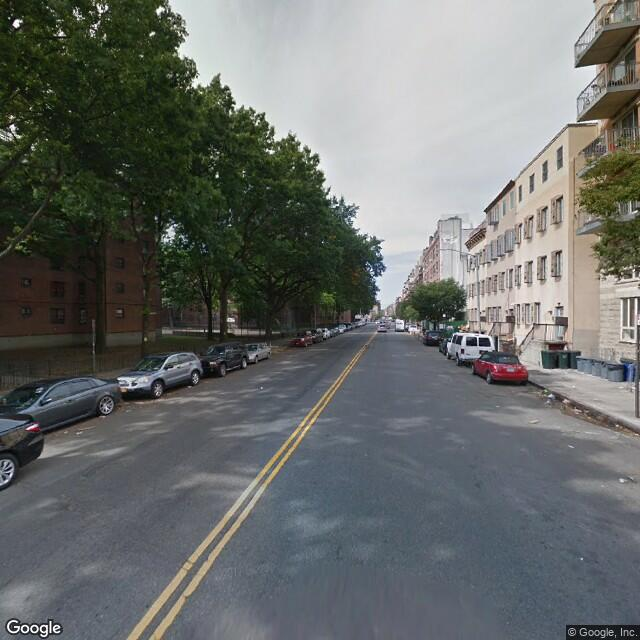litter: (548, 381, 614, 438)
